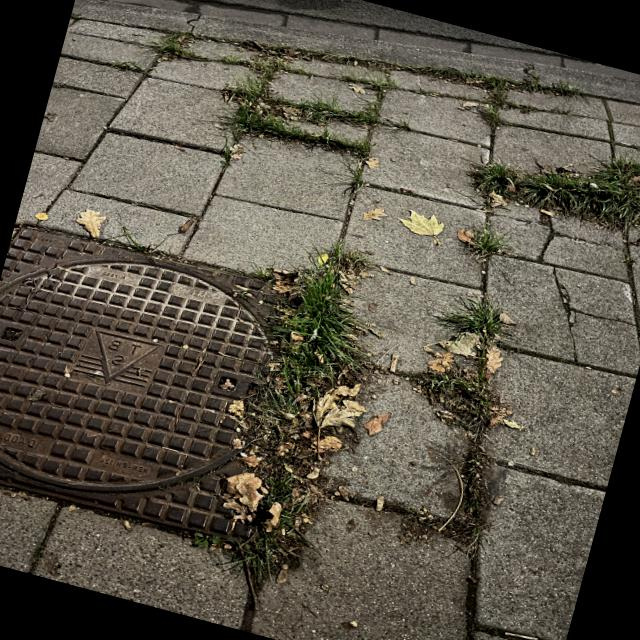leaves: (223, 400, 281, 531), (486, 392, 522, 433)
pavement: (25, 0, 639, 460), (0, 274, 630, 639)
weed: (188, 244, 368, 586), (108, 27, 260, 77)
weedling: (219, 161, 228, 167)
